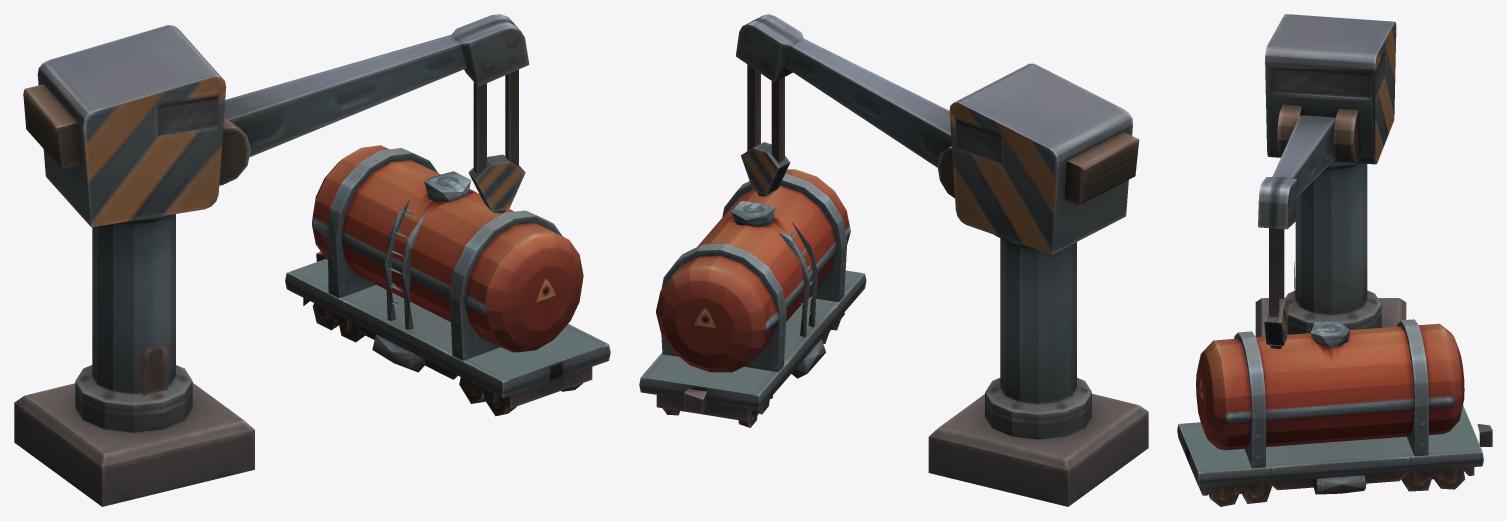
Rendered from jiagong.glb.
3 renders of one model, left to right at view 1: azimuth 30°, elevation 25°; view 2: azimuth 150°, elevation 25°; view 3: azimuth 270°, elevation 25°, orthographic. The views are drawn at different scales.
Visible parts, largest first — view 1: jiagong001; view 2: jiagong001; view 3: jiagong001.
Boxes of the visible parts, x1,y1,x2,y2 form: jiagong001: (14,14,610,506); jiagong001: (639,14,1148,506); jiagong001: (1177,14,1492,506).
Bounding box in the file's own units: 9.06 × 6.97 × 5.87.
3 materials, 3 textured.
